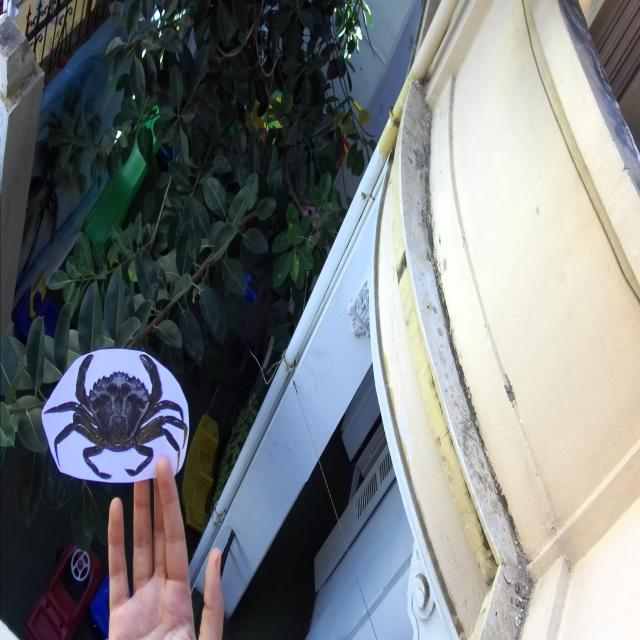European_Green_Crab: (42, 349, 189, 484)
